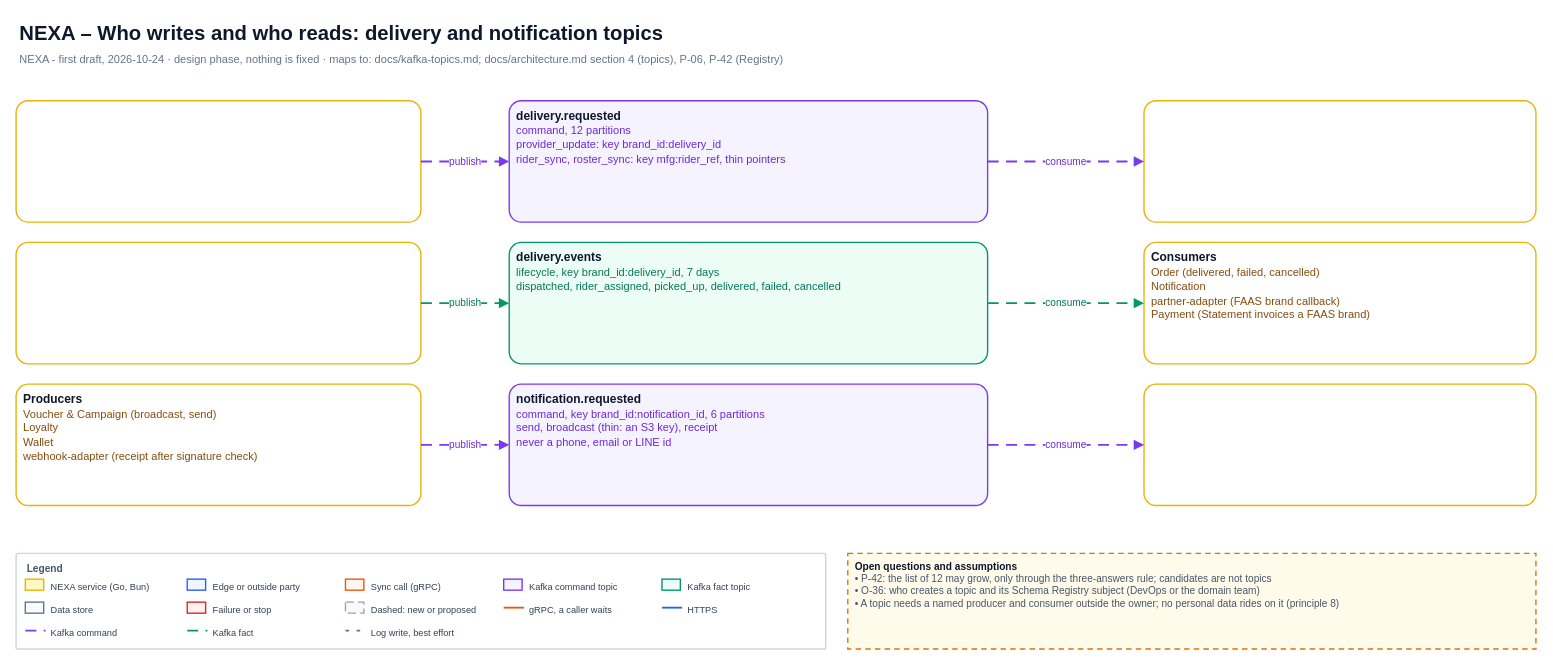
Image size: 1553x665. Some labels were removed from this diagram. The shapes that lost their labels are listed below. From the top down, each one's centre as x and y in pixels, then its label:
At (218,161): "Producers partner-adapter (verified provider webhook)".
At (1339,161): "Consumers Delivery".
At (218,302): "Producers Delivery".
At (1339,444): "Consumers Notification".
